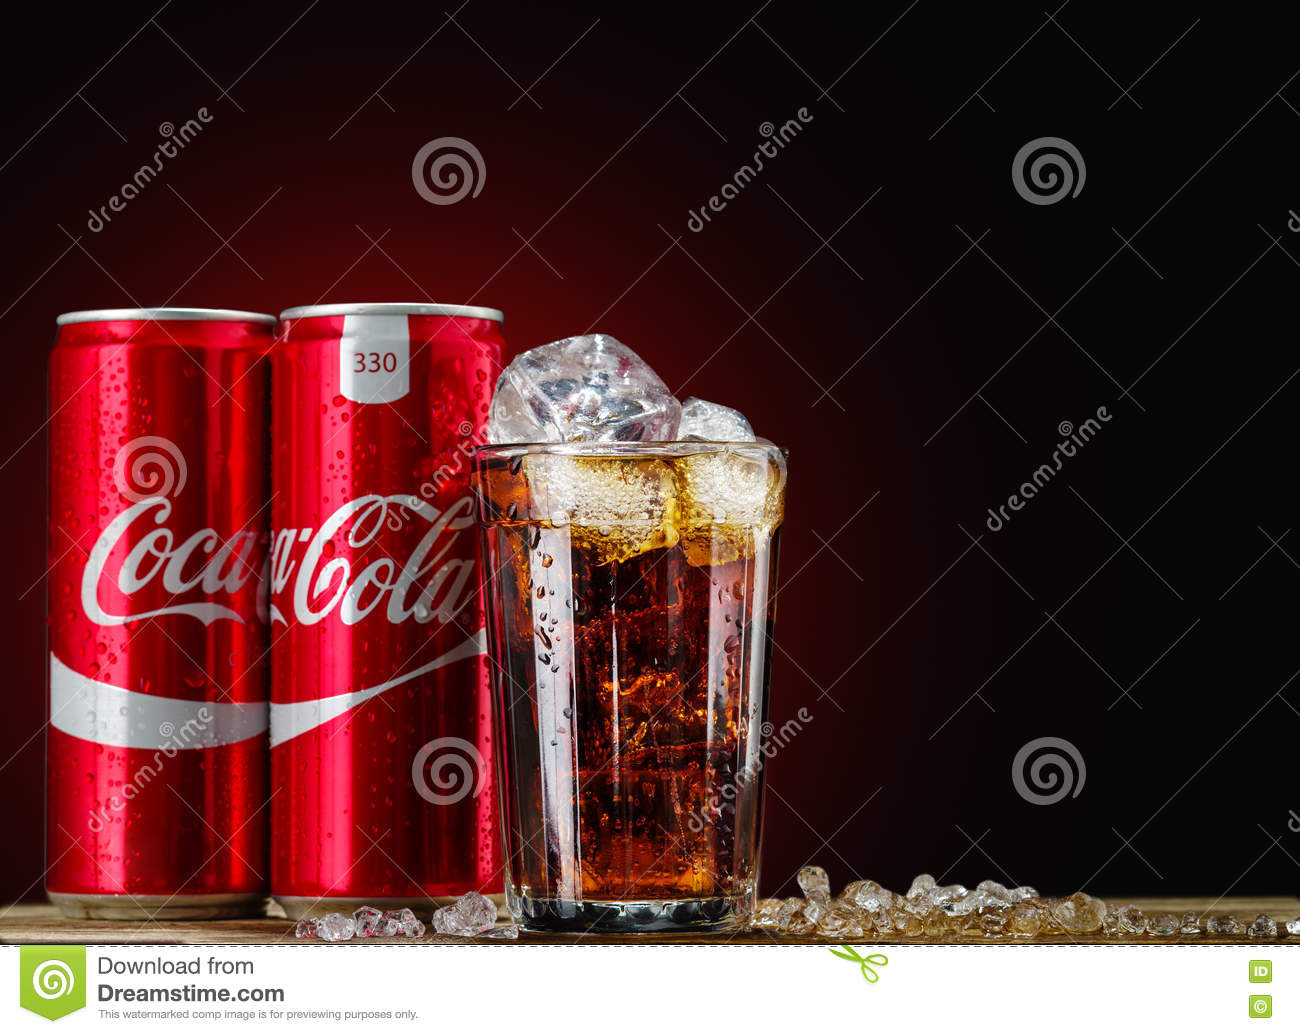can: (36, 269, 280, 925), (280, 269, 513, 936)
